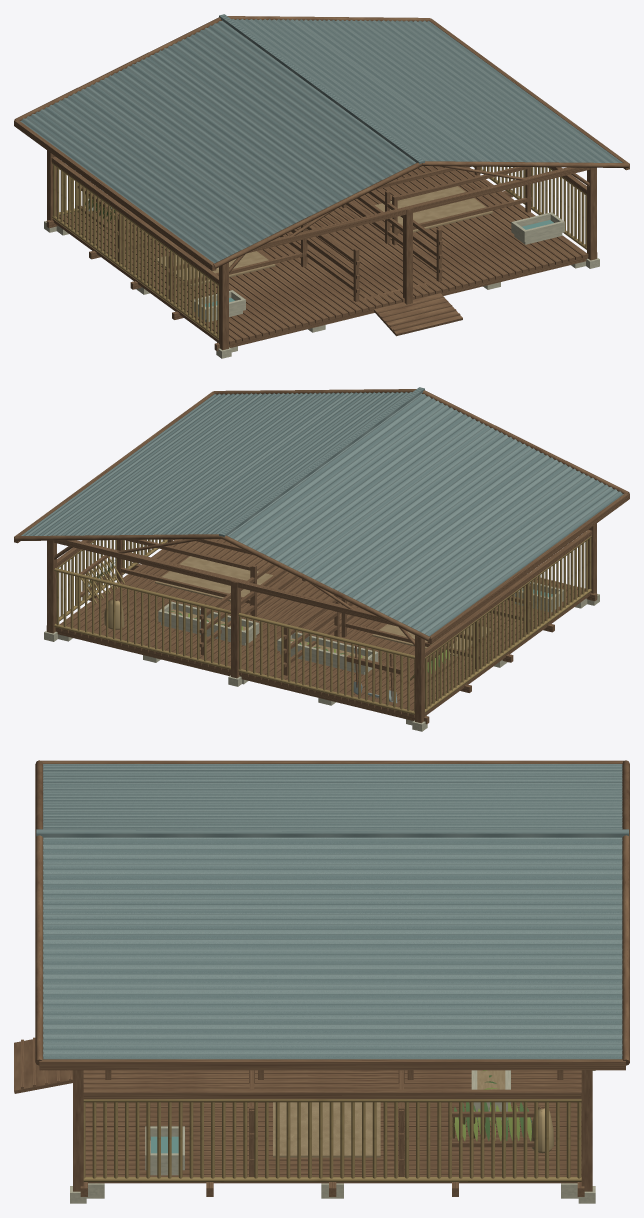
File: goat-shelter.glb
3 views of the same model, one above another, from view 1: azimuth 30°, elevation 25°; view 2: azimuth 150°, elevation 25°; view 3: azimuth 270°, elevation 25° (orthographic). The views are drawn at different scales.
Parts seen in each view (by area): view 1: roof_corrugated_aged_zinc_roof, floor_warm_weathered_hardwood, walls_warm_weathered_Indonesian_bamboo, roof_warm_weathered_hardwood, frame_warm_weathered_hardwood, stalls_warm_weathered_hardwood, bedding_dry_rice_straw_bedding, entry_ramp_warm_weathered_hardwood, walls_warm_weathered_hardwood, clean_water_trough_1_hand_trowelled_lime_concrete, clean_water_trough_-1_hand_trowelled_lime_concrete; view 2: roof_corrugated_aged_zinc_roof, walls_warm_weathered_Indonesian_bamboo, floor_warm_weathered_hardwood, roof_warm_weathered_hardwood, frame_warm_weathered_hardwood, stalls_warm_weathered_hardwood, bedding_dry_rice_straw_bedding, walls_warm_weathered_hardwood, green_fodder_trough_-1_hand_trowelled_lime_concrete, green_fodder_trough_1_hand_trowelled_lime_concrete, tool_rack_warm_weathered_hardwood, wall_hay_rack_1_warm_weathered_Indonesian_bamboo; view 3: roof_corrugated_aged_zinc_roof, floor_warm_weathered_hardwood, walls_warm_weathered_Indonesian_bamboo, roof_warm_weathered_hardwood, walls_warm_weathered_hardwood, bedding_dry_rice_straw_bedding, frame_warm_weathered_hardwood, entry_ramp_warm_weathered_hardwood, stalls_warm_weathered_hardwood, clean_water_trough_1_hand_trowelled_lime_concrete, wall_hay_rack_1_warm_weathered_hardwood, floor_hand_trowelled_lime_concrete (+1 smaller).
Part boxes in pixels (box(x1,y1,x2,y2)): roof_corrugated_aged_zinc_roof: box(20, 14, 622, 263); floor_warm_weathered_hardwood: box(46, 166, 597, 351); walls_warm_weathered_Indonesian_bamboo: box(52, 163, 586, 339); roof_warm_weathered_hardwood: box(14, 16, 629, 270); frame_warm_weathered_hardwood: box(47, 150, 596, 350); stalls_warm_weathered_hardwood: box(117, 166, 531, 301); bedding_dry_rice_straw_bedding: box(155, 186, 492, 286); entry_ramp_warm_weathered_hardwood: box(364, 282, 462, 336); walls_warm_weathered_hardwood: box(51, 156, 586, 284); clean_water_trough_1_hand_trowelled_lime_concrete: box(511, 212, 564, 244); clean_water_trough_-1_hand_trowelled_lime_concrete: box(194, 290, 245, 322); roof_corrugated_aged_zinc_roof: box(21, 387, 623, 636); walls_warm_weathered_Indonesian_bamboo: box(54, 536, 591, 714); floor_warm_weathered_hardwood: box(46, 539, 597, 724); roof_warm_weathered_hardwood: box(14, 389, 629, 643); frame_warm_weathered_hardwood: box(47, 523, 596, 723); stalls_warm_weathered_hardwood: box(116, 539, 530, 675); bedding_dry_rice_straw_bedding: box(155, 556, 490, 656); walls_warm_weathered_hardwood: box(57, 529, 592, 657); green_fodder_trough_-1_hand_trowelled_lime_concrete: box(277, 632, 378, 674); green_fodder_trough_1_hand_trowelled_lime_concrete: box(158, 601, 259, 645); tool_rack_warm_weathered_hardwood: box(346, 645, 400, 701); wall_hay_rack_1_warm_weathered_Indonesian_bamboo: box(80, 557, 124, 603); roof_corrugated_aged_zinc_roof: box(36, 764, 628, 1059); floor_warm_weathered_hardwood: box(80, 1070, 584, 1196); walls_warm_weathered_Indonesian_bamboo: box(83, 1099, 581, 1181); roof_warm_weathered_hardwood: box(35, 760, 629, 1070); walls_warm_weathered_hardwood: box(83, 1089, 581, 1099); bedding_dry_rice_straw_bedding: box(273, 1102, 380, 1157); frame_warm_weathered_hardwood: box(73, 1070, 592, 1191); entry_ramp_warm_weathered_hardwood: box(14, 1037, 72, 1093); stalls_warm_weathered_hardwood: box(105, 1070, 563, 1176); clean_water_trough_1_hand_trowelled_lime_concrete: box(145, 1126, 184, 1175); wall_hay_rack_1_warm_weathered_hardwood: box(452, 1111, 534, 1147); floor_hand_trowelled_lime_concrete: box(86, 1183, 578, 1198).
Size of the model in its own units: 11.91 by 4.39 by 10.29.
Materials: 11 (5 with a texture image).
